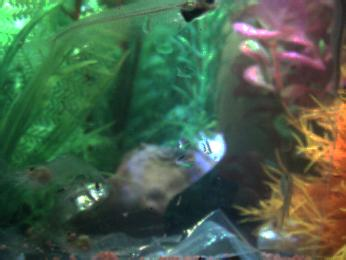X-ray fish: (41, 180, 115, 228), (271, 171, 295, 228)
glassfish: (26, 1, 223, 53), (326, 1, 346, 101)
siberian prawn: (1, 151, 109, 193), (40, 227, 163, 258)
